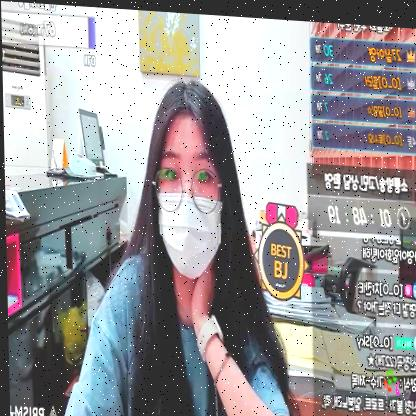streamer: (42, 69, 300, 416)
